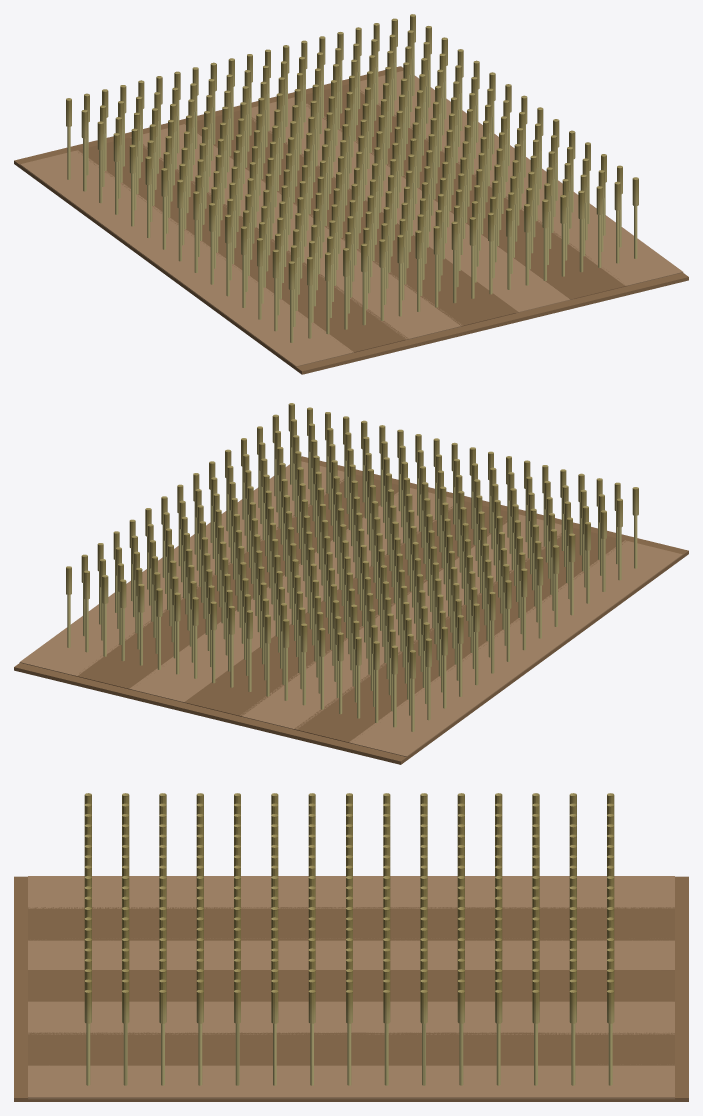
The model's file is CUPIC_FARM.obj.
3 views of the same model, one above another, from view 1: azimuth 30°, elevation 25°; view 2: azimuth 150°, elevation 25°; view 3: azimuth 270°, elevation 25° (orthographic). The views are drawn at different scales.
Bounding box in the file's own units: 654 × 135 × 843.
1 material, 1 textured.
